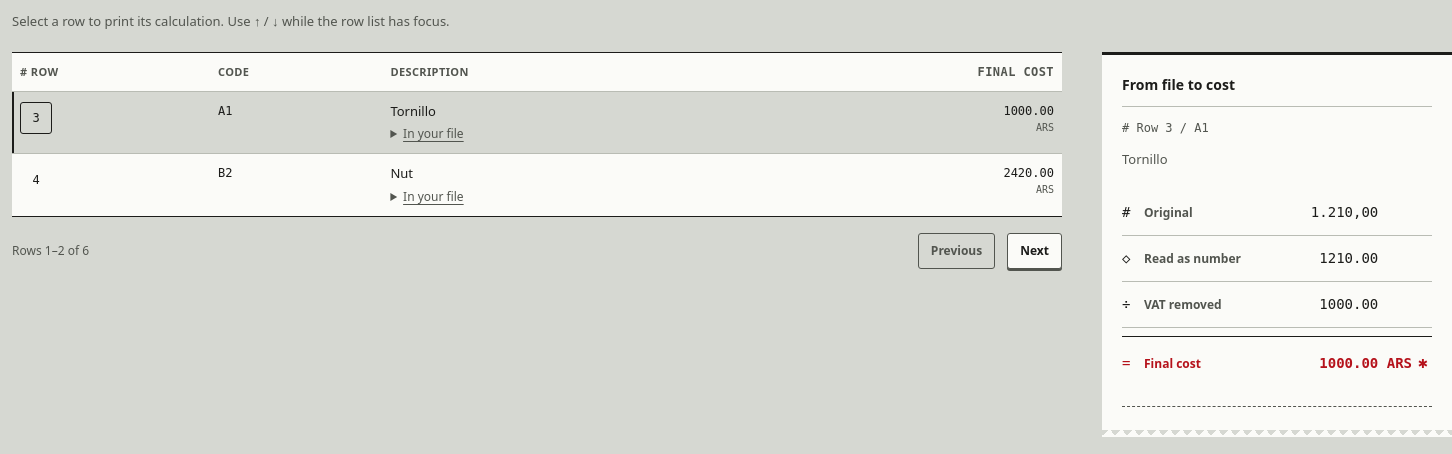
Scenario: printed preview tape › prints the selected row's actual trace and final cost, not the worked example
Click the button named "Row 4". click: (36, 180)
box: [20, 164, 52, 196]
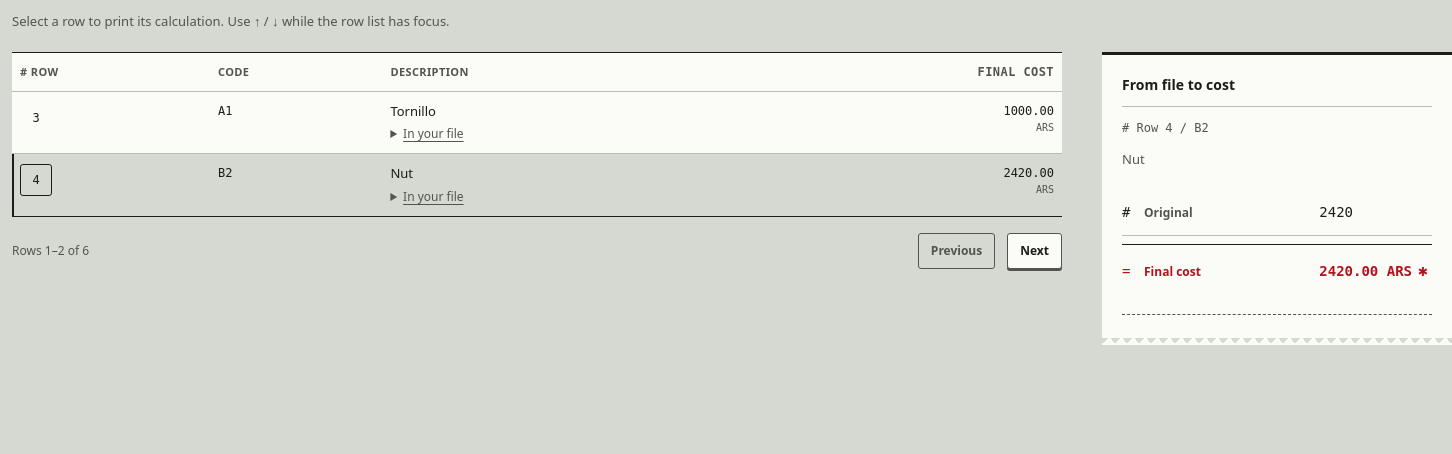
Expected: the number of list items is 2, [1122, 190, 1432, 236]; [1122, 244, 1432, 294]
